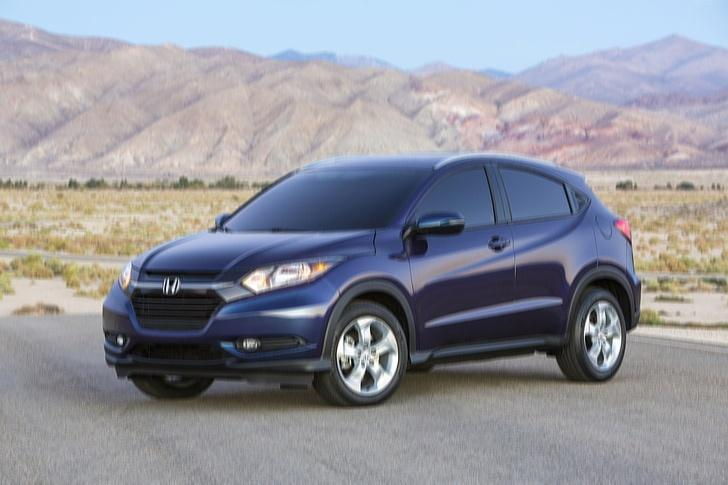Car hood: (120, 224, 382, 283)
Fender - -F-L-: (328, 215, 418, 345)
Fender - -R-L-: (579, 198, 636, 293)
Front bumper: (97, 278, 338, 386)
Headlight - -L-: (237, 253, 350, 298)
Headlight - -R-: (115, 261, 137, 294)
Passenger-s door - -F-L-: (403, 149, 522, 369)
Passenger-s door - -R-L-: (482, 145, 598, 375)
Rear bumper: (621, 240, 643, 336)
Rear light - -L-: (611, 215, 635, 245)
Side bumper - -L-: (408, 308, 575, 395)
Side mirror - -L-: (403, 207, 468, 247)
